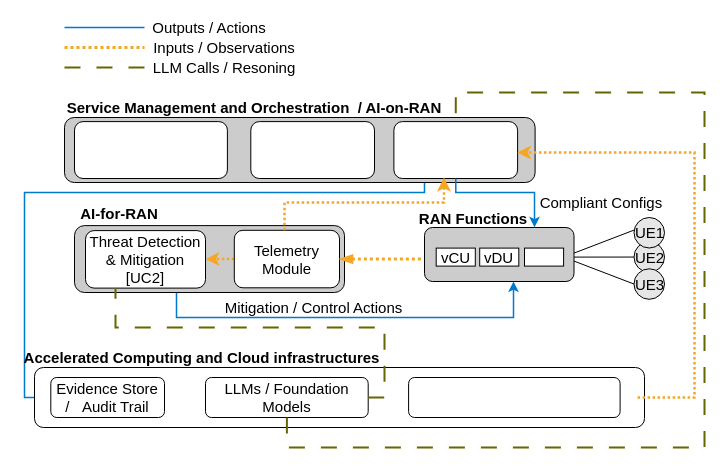
This 724x466 diagram has some shape labels left out. Each missing label, with the centre of its shape:
"Automated Penetration Testing [UC1]" goes at point (150, 149).
"Compliance Module [UC4]" goes at point (455, 149).
"Knowledge Base / Standards Repository" goes at point (514, 397).
"Proactive Threat Tracing [UC3]" goes at point (312, 149).
"RU" goes at point (544, 256).
